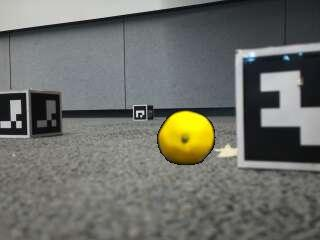lemon: (159, 110, 215, 164)
